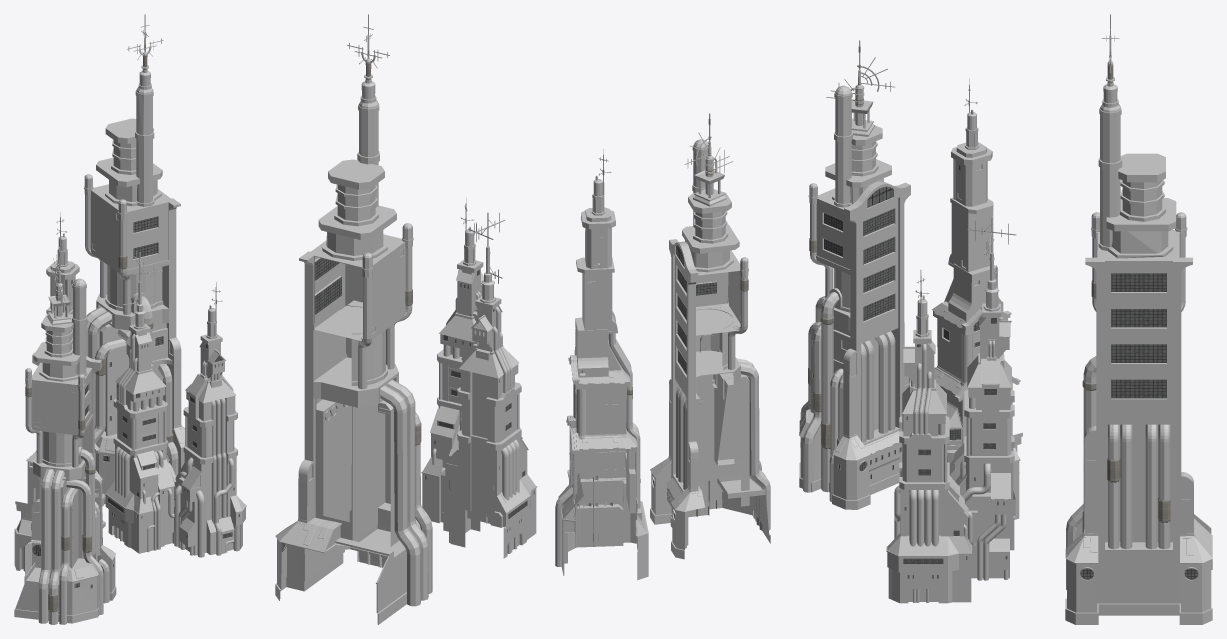
Rendered from CommonBuilding_Ea_Distant.fbx.
3 renders of one model, left to right at view 1: azimuth 30°, elevation 25°; view 2: azimuth 150°, elevation 25°; view 3: azimuth 270°, elevation 25°, orthographic. The views are drawn at different scales.
Visible parts, largest first — view 1: SM_ENV_AMVLLG02_CommonBuilding_Ea_Distant.mo; view 2: SM_ENV_AMVLLG02_CommonBuilding_Ea_Distant.mo; view 3: SM_ENV_AMVLLG02_CommonBuilding_Ea_Distant.mo.
Part boxes in pixels (x1,y1,x2,y2): SM_ENV_AMVLLG02_CommonBuilding_Ea_Distant.mo: (14,14,246,624); SM_ENV_AMVLLG02_CommonBuilding_Ea_Distant.mo: (275,14,770,624); SM_ENV_AMVLLG02_CommonBuilding_Ea_Distant.mo: (799,14,1212,624).
Bounding box in the file's own units: 9529 × 15592 × 9972.
